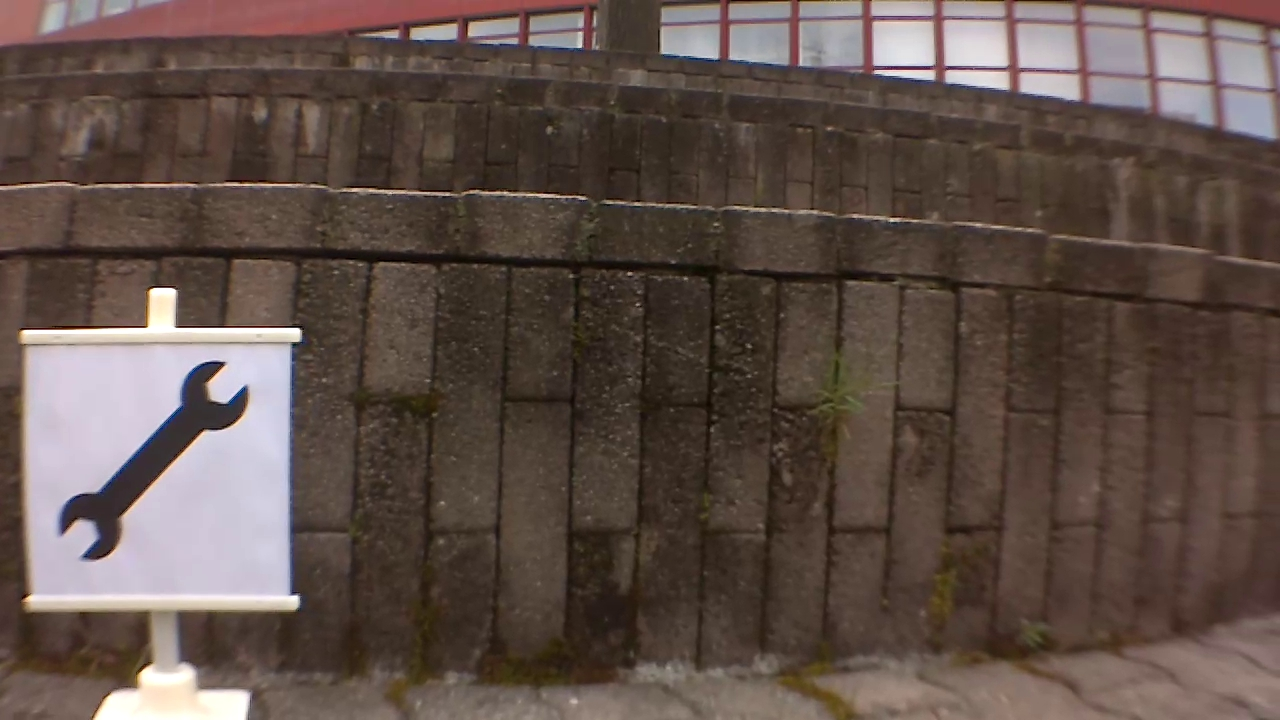wrench: (58, 356, 250, 556)
